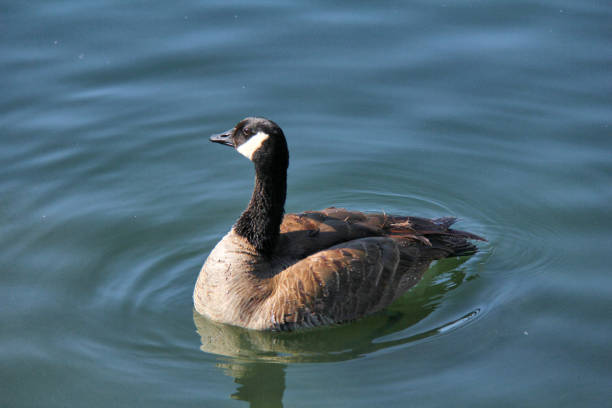goose: (181, 113, 487, 345)
